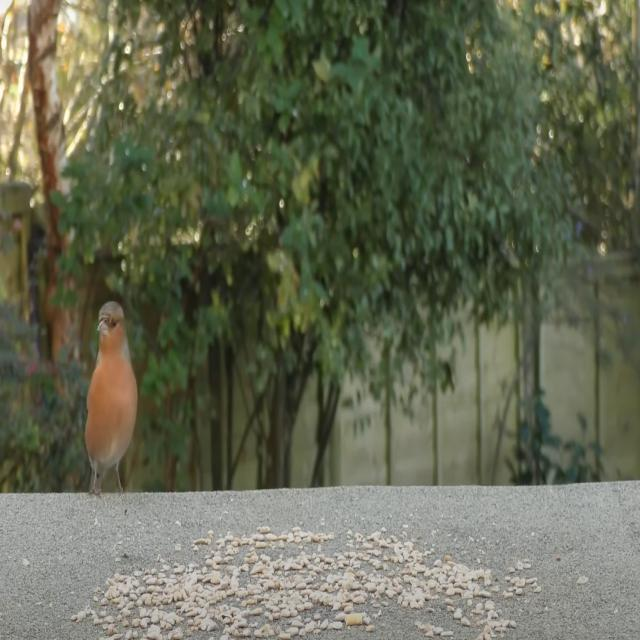beak: (95, 316, 108, 337)
bird: (82, 300, 142, 522)
